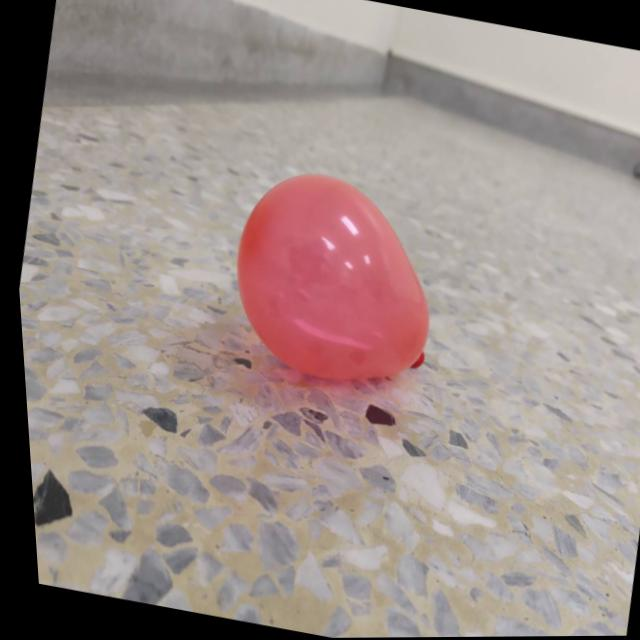red: (207, 157, 455, 400)
